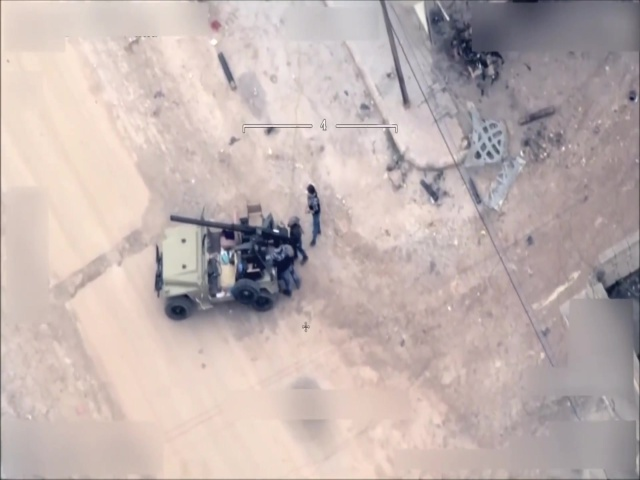person: (270, 238, 303, 298), (285, 211, 311, 272), (303, 180, 324, 250)
vehicle: (153, 211, 288, 321)
